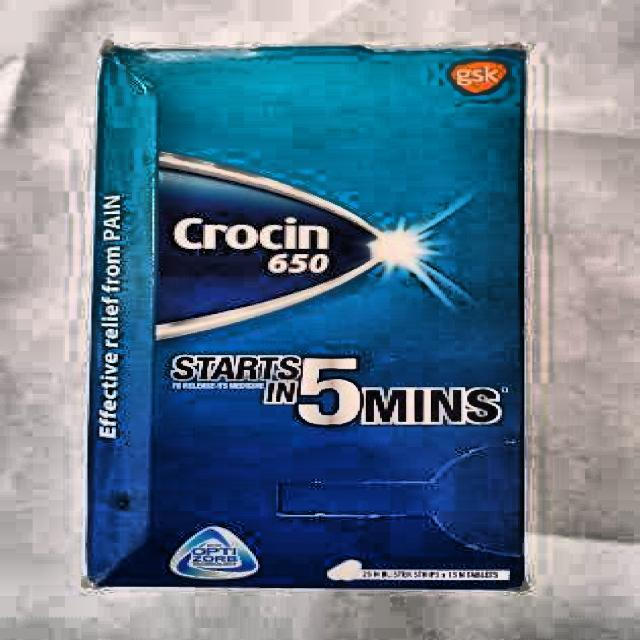Crocin: (158, 209, 379, 300)
